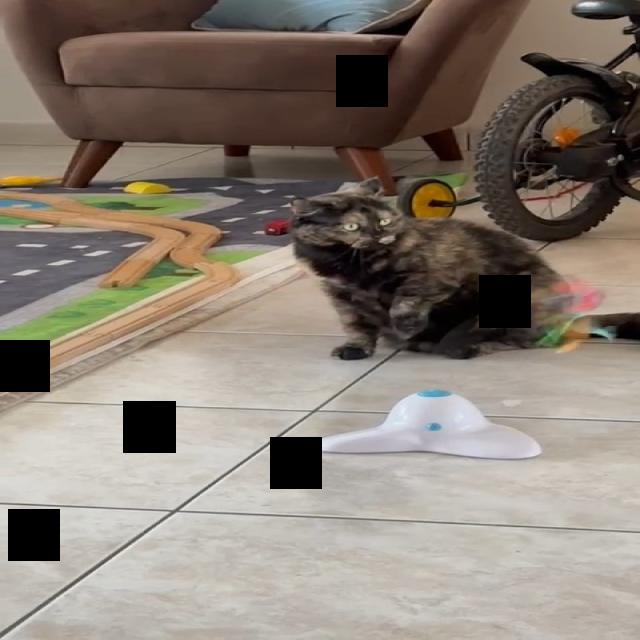authorized: (286, 175, 638, 361)
